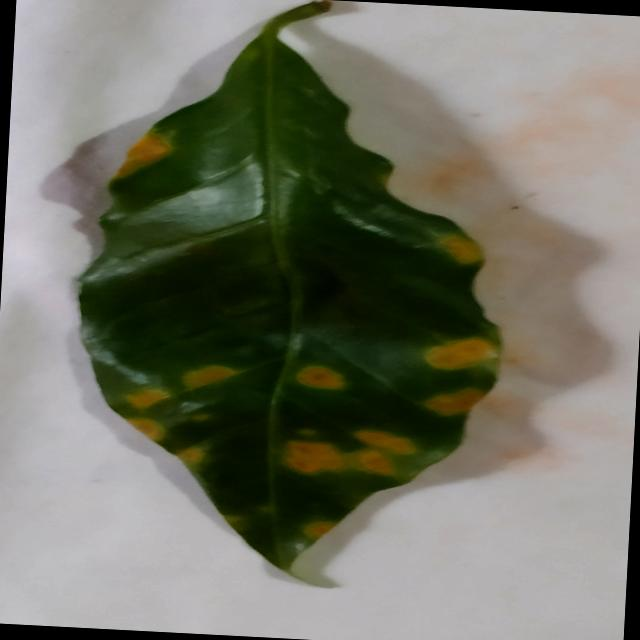KaratDaunKopi: (113, 132, 171, 179), (424, 338, 497, 370), (285, 441, 345, 473), (422, 388, 484, 416), (355, 430, 415, 454), (183, 365, 238, 388), (440, 235, 482, 265), (296, 366, 344, 389), (356, 450, 393, 475), (125, 418, 164, 441), (127, 390, 169, 409), (304, 522, 335, 539), (176, 447, 203, 464), (224, 515, 242, 531), (191, 414, 211, 422), (298, 429, 316, 436)
